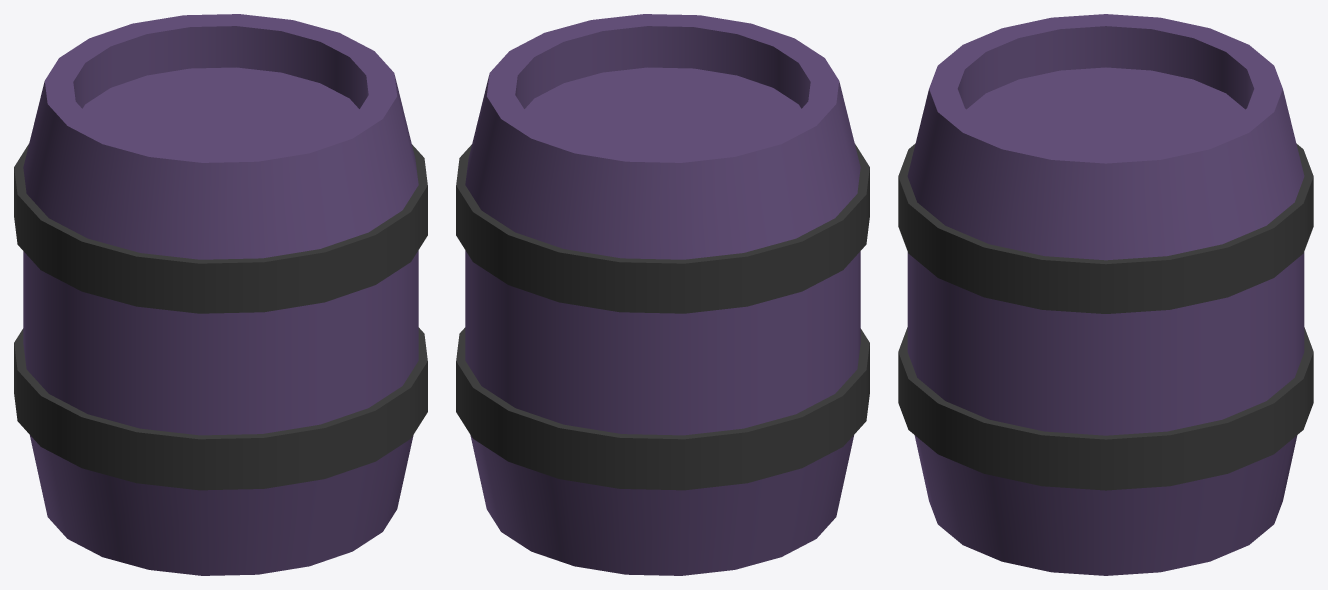
The model's file is robotbarrel.fbx.
3 renders of one model, left to right at view 1: azimuth 30°, elevation 25°; view 2: azimuth 150°, elevation 25°; view 3: azimuth 270°, elevation 25°, orthographic.
Visible parts, largest first — view 1: pCylinder20; view 2: pCylinder20; view 3: pCylinder20.
Boxes of the visible parts, left/top/right/bottom form: pCylinder20: left=14, top=14, right=427, bottom=575; pCylinder20: left=456, top=14, right=869, bottom=575; pCylinder20: left=898, top=14, right=1313, bottom=575.
Size of the model in its own units: 4.55 by 4.98 by 4.55.
